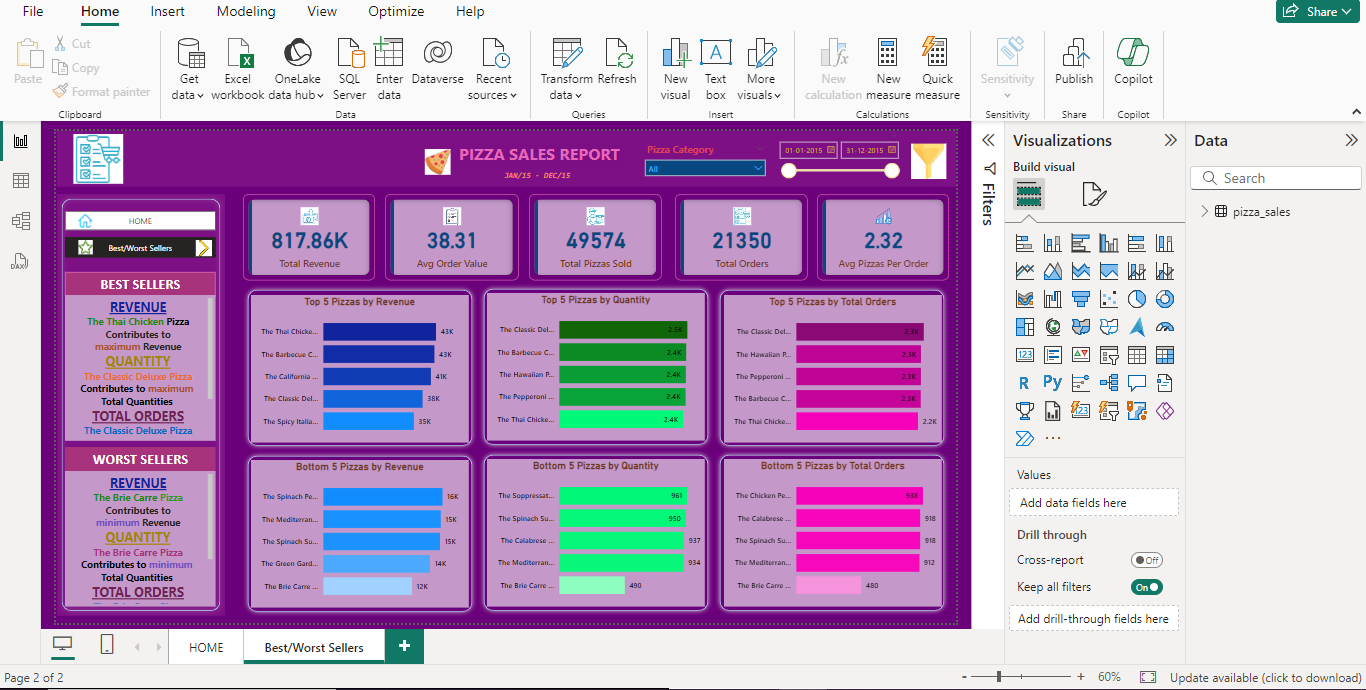

Layout of this report page (visuals, bound fields, positions):
{"tool":"powerbi","page":{"name":"Best/Worst Sellers","canvas":[1500,820],"ordinal":1},"visuals":[{"type":"shape","box":[1.4,0,1498.6,92.9],"z":0},{"type":"slicer","fields":{"Values":["pizza_sales.pizza_category"]},"box":[971.4,15.7,221.4,61.4],"z":1000},{"type":"slicer","fields":{"Values":["pizza_sales.order_date"]},"box":[1192.9,0,221.4,92.9],"z":2000},{"type":"shape","box":[1.4,104.3,280,702.9],"z":3000},{"type":"textbox","box":[15.7,235.7,251.4,41.4],"z":4000},{"type":"textbox","box":[655.7,15.7,301.4,47.1],"z":5000},{"type":"textbox","box":[15.7,272.9,251.4,242.9],"z":6000},{"type":"textbox","box":[15.7,527.1,251.4,40],"z":7000},{"type":"textbox","box":[15.7,567.1,251.4,225.7],"z":8000},{"type":"textbox","box":[728.6,60,147.1,32.9],"z":9000},{"type":"image","box":[607.1,24.3,58.6,52.9],"z":10000},{"type":"cardVisual","fields":{"Data":["pizza_sales.Total Revenue"]},"box":[311.4,104.3,220,144.3],"z":11000},{"type":"cardVisual","fields":{"Data":["pizza_sales.Avg Order Value"]},"box":[548.6,104.3,222.9,144.3],"z":12000},{"type":"cardVisual","fields":{"Data":["pizza_sales.Total Pizzas Sold"]},"box":[788.6,104.3,221.4,144.3],"z":13000},{"type":"cardVisual","fields":{"Data":["pizza_sales.Total Orders"]},"box":[1031.4,104.3,221.4,144.3],"z":14000},{"type":"cardVisual","fields":{"Data":["pizza_sales.Avg Pizzas Per Order"]},"box":[1268.6,104.3,220,144.3],"z":15000},{"type":"shape","box":[311.4,257.1,390,275.7],"z":16000},{"type":"shape","box":[704.3,255.7,390,275.7],"z":17000},{"type":"shape","box":[1098.6,257.1,390,275.7],"z":18000},{"type":"shape","box":[311.4,532.9,390,275.7],"z":19000},{"type":"shape","box":[704.3,531.4,390,275.7],"z":20000},{"type":"shape","box":[1098.6,531.4,390,275.7],"z":21000},{"type":"barChart","title":"Top 5 Pizzas by Revenue","fields":{"Category":["pizza_sales.pizza_name"],"Y":["pizza_sales.Total Revenue"]},"box":[324.3,272.9,362.9,245.7],"z":22000},{"type":"barChart","title":"Bottom 5 Pizzas by Revenue","fields":{"Category":["pizza_sales.pizza_name"],"Y":["pizza_sales.Total Revenue"]},"box":[324.3,548.6,362.9,245.7],"z":23000},{"type":"barChart","title":"Top 5 Pizzas by Quantity","fields":{"Category":["pizza_sales.pizza_name"],"Y":["pizza_sales.Total Pizzas Sold"]},"box":[718.6,270,362.9,245.7],"z":24000},{"type":"barChart","title":"Bottom 5 Pizzas by Quantity","fields":{"Category":["pizza_sales.pizza_name"],"Y":["pizza_sales.Total Pizzas Sold"]},"box":[718.6,547.1,362.9,245.7],"z":25000},{"type":"barChart","title":"Top 5 Pizzas by Total Orders","fields":{"Category":["pizza_sales.pizza_name"],"Y":["pizza_sales.Total Orders"]},"box":[1112.9,272.9,362.9,245.7],"z":26000},{"type":"barChart","title":"Bottom 5 Pizzas by Total Orders","fields":{"Category":["pizza_sales.pizza_name"],"Y":["pizza_sales.Total Orders"]},"box":[1112.9,547.1,362.9,245.7],"z":27000},{"type":"pageNavigator","box":[15.7,177.1,251.4,34.3],"z":28000},{"type":"pageNavigator","box":[15.7,132.9,251.4,32.9],"z":29000},{"type":"image","box":[224.3,177.1,42.9,37.1],"z":30000},{"type":"image","box":[28.6,132.9,41.4,32.9],"z":31000},{"type":"image","box":[28.6,177.1,41.4,34.3],"z":32000},{"type":"image","box":[14.3,0,110,92.9],"z":33000},{"type":"image","box":[1420,15.7,68.6,70],"z":34000}]}

Visuals, with their boxes on the page's 1500x820 design canvas (x1, y1, x2, y2). These are canvas units, not pixel positions in the 1366x690 screenshot, which may show the page scaled, cropped or inside an application window:
shape: rect(1, 0, 1500, 93)
slicer - pizza_sales.pizza_category: rect(971, 16, 1193, 77)
slicer - pizza_sales.order_date: rect(1193, 0, 1414, 93)
shape: rect(1, 104, 281, 807)
textbox: rect(16, 236, 267, 277)
textbox: rect(656, 16, 957, 63)
textbox: rect(16, 273, 267, 516)
textbox: rect(16, 527, 267, 567)
textbox: rect(16, 567, 267, 793)
textbox: rect(729, 60, 876, 93)
image: rect(607, 24, 666, 77)
cardVisual - pizza_sales.Total Revenue: rect(311, 104, 531, 249)
cardVisual - pizza_sales.Avg Order Value: rect(549, 104, 772, 249)
cardVisual - pizza_sales.Total Pizzas Sold: rect(789, 104, 1010, 249)
cardVisual - pizza_sales.Total Orders: rect(1031, 104, 1253, 249)
cardVisual - pizza_sales.Avg Pizzas Per Order: rect(1269, 104, 1489, 249)
shape: rect(311, 257, 701, 533)
shape: rect(704, 256, 1094, 531)
shape: rect(1099, 257, 1489, 533)
shape: rect(311, 533, 701, 809)
shape: rect(704, 531, 1094, 807)
shape: rect(1099, 531, 1489, 807)
"Top 5 Pizzas by Revenue" barChart: rect(324, 273, 687, 519)
"Bottom 5 Pizzas by Revenue" barChart: rect(324, 549, 687, 794)
"Top 5 Pizzas by Quantity" barChart: rect(719, 270, 1082, 516)
"Bottom 5 Pizzas by Quantity" barChart: rect(719, 547, 1082, 793)
"Top 5 Pizzas by Total Orders" barChart: rect(1113, 273, 1476, 519)
"Bottom 5 Pizzas by Total Orders" barChart: rect(1113, 547, 1476, 793)
pageNavigator: rect(16, 177, 267, 211)
pageNavigator: rect(16, 133, 267, 166)
image: rect(224, 177, 267, 214)
image: rect(29, 133, 70, 166)
image: rect(29, 177, 70, 211)
image: rect(14, 0, 124, 93)
image: rect(1420, 16, 1489, 86)
